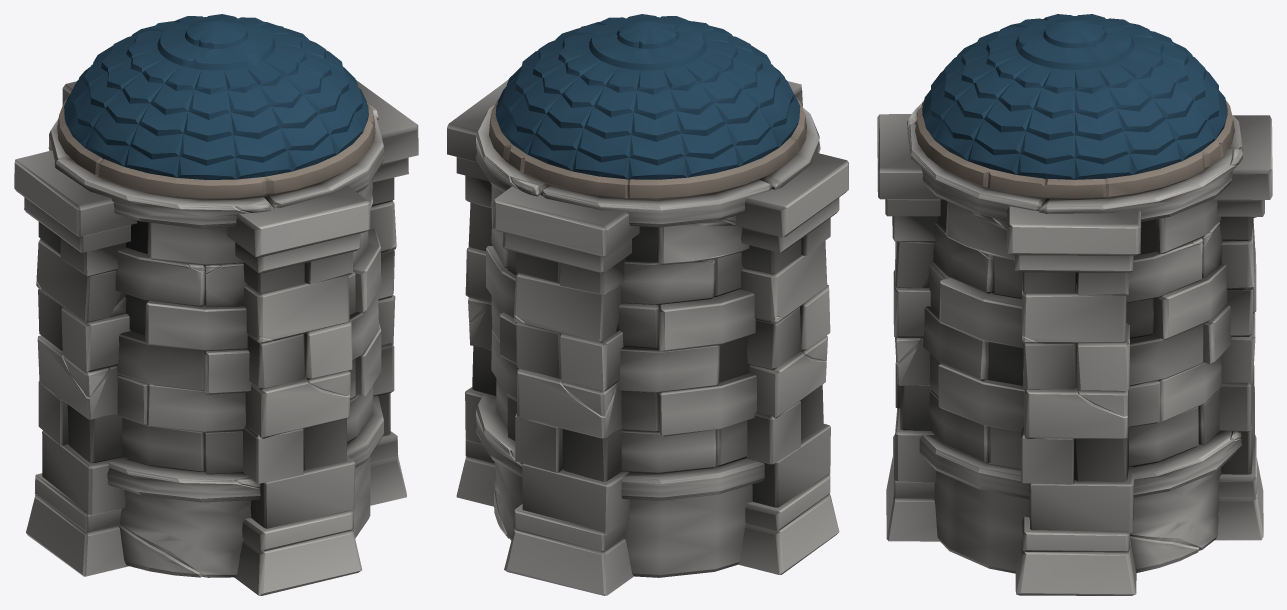
File: obj_pillar_C.FBX
3 renders of one model, left to right at view 1: azimuth 30°, elevation 25°; view 2: azimuth 150°, elevation 25°; view 3: azimuth 270°, elevation 25°, orthographic.
Visible parts, largest first — view 1: obj_pillar_C; view 2: obj_pillar_C; view 3: obj_pillar_C.
Part boxes in pixels (bbox=[...]): obj_pillar_C: bbox=[14, 14, 418, 595]; obj_pillar_C: bbox=[447, 14, 848, 595]; obj_pillar_C: bbox=[877, 14, 1272, 595].
Size of the model in its own units: 4.29 by 5.92 by 4.29.
